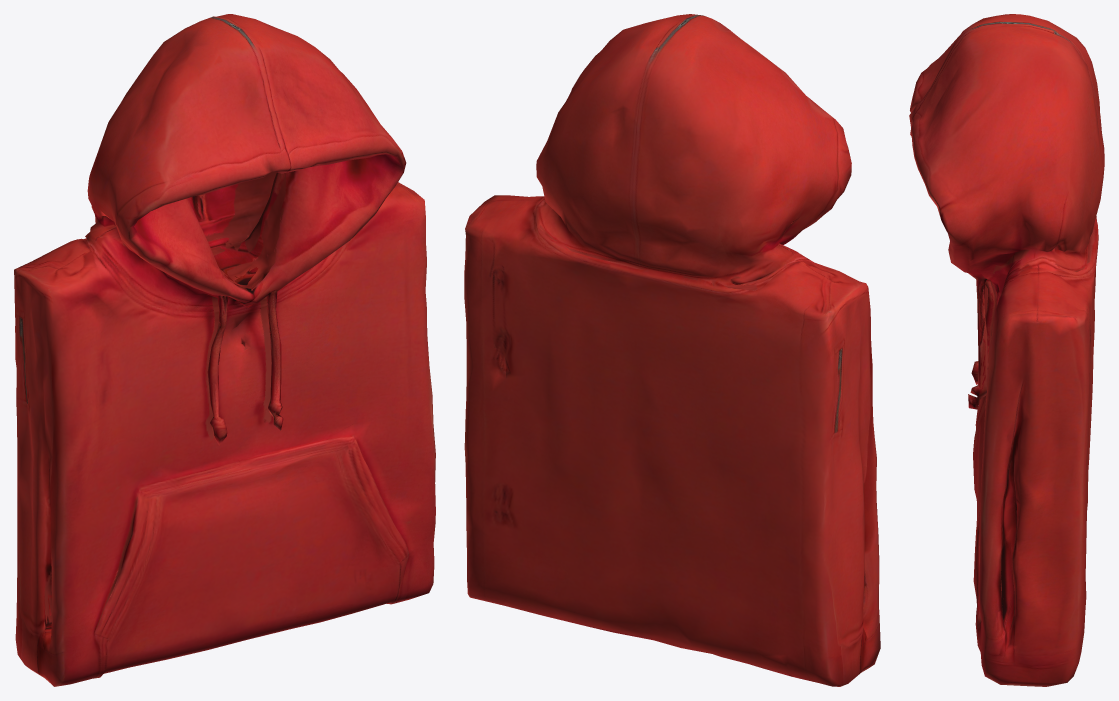
The model's file is RedHoodieFolded.fbx.
3 views of the same model, side by side, from view 1: azimuth 30°, elevation 25°; view 2: azimuth 150°, elevation 25°; view 3: azimuth 270°, elevation 25° (orthographic). The views are drawn at different scales.
Parts seen in each view (by area): view 1: temp; view 2: temp; view 3: temp.
Part boxes in pixels (<box>): temp: <box>14,14,435,686</box>; temp: <box>464,14,880,686</box>; temp: <box>909,14,1104,686</box>.
Bounding box in the file's own units: 130 × 199 × 60.92.
Materials: 1 (1 with a texture image).
